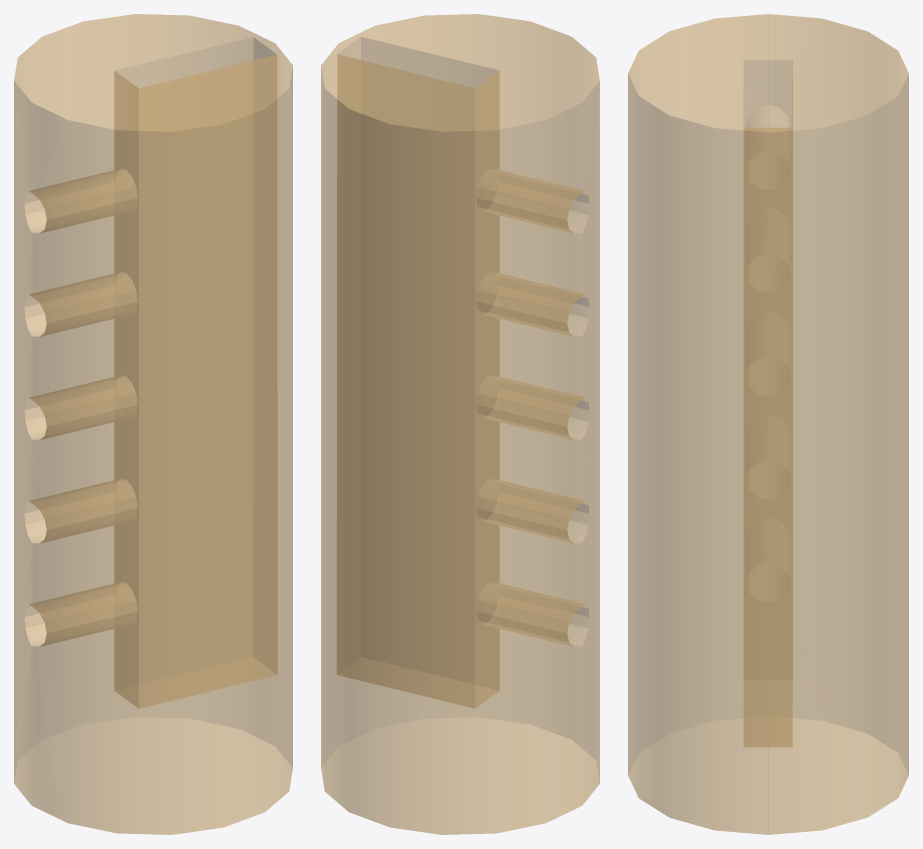
Rendered from bebenek.glb.
3 renders of one model, left to right at view 1: azimuth 30°, elevation 25°; view 2: azimuth 150°, elevation 25°; view 3: azimuth 270°, elevation 25°, orthographic.
Visible parts, largest first — view 1: bebenek; view 2: bebenek; view 3: bebenek.
Boxes of the visible parts, left/top/right/bottom form: bebenek: left=14, top=14, right=292, bottom=834; bebenek: left=321, top=14, right=599, bottom=834; bebenek: left=628, top=14, right=908, bottom=834.
Bounding box in the file's own units: 1.06 × 2.93 × 1.06.
